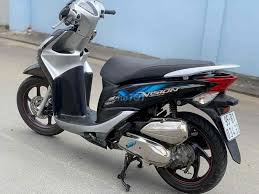Bien-so: (220, 110, 242, 142)
